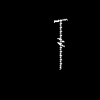treble_crochet: (54, 19, 65, 67)
